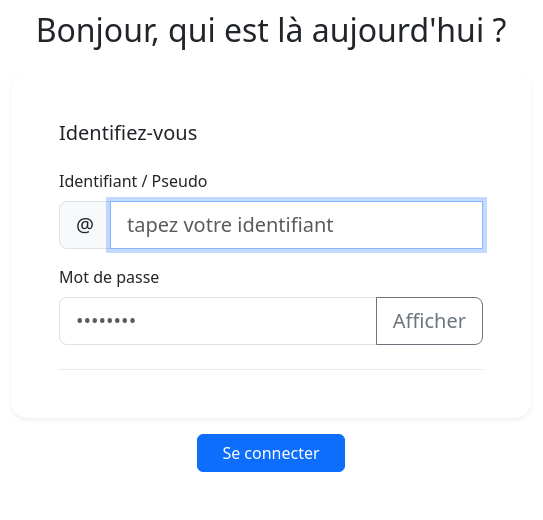
LoginPage › refuse la soumission si les champs sont vides
Click the button "Se connecter" at (271, 453), box top-left (197, 434), bottom-right (345, 472)
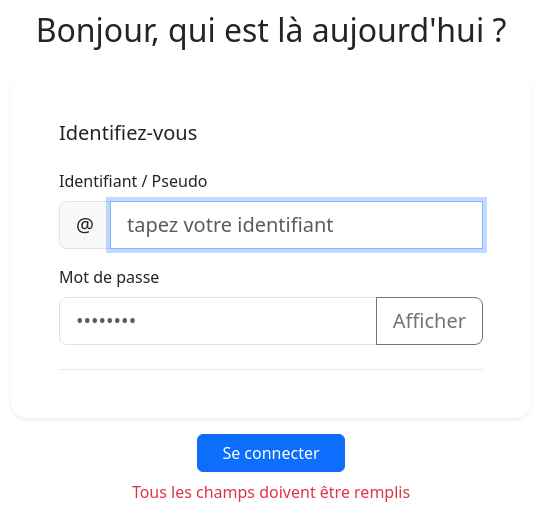
Check: the text "Tous les champs doivent être remplis" is shown, box top-left (132, 481), bottom-right (410, 503)
